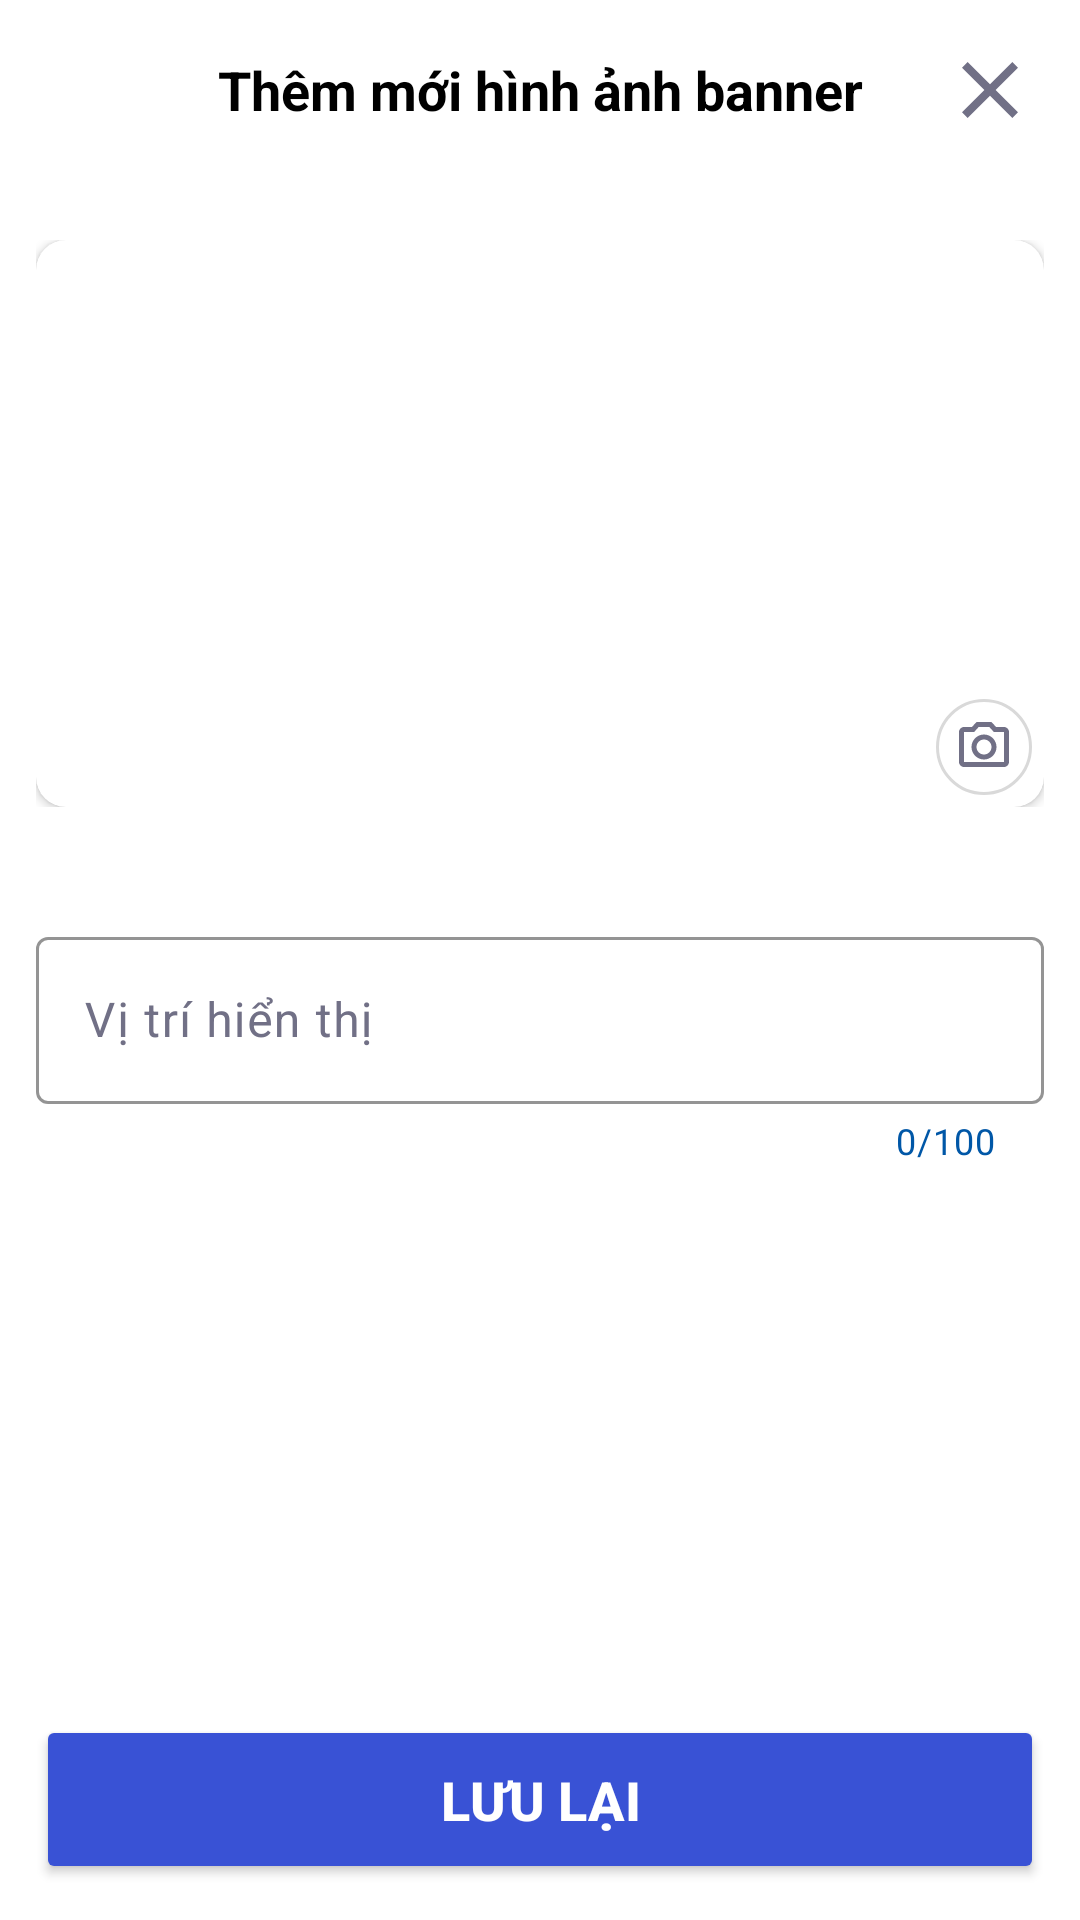

Named icons in this screenshot (1080px×1920px) and their bounding boxes, [x1,y1,x2,y2]:
camera: [936,699,1032,795]
close: [962,62,1018,118]
